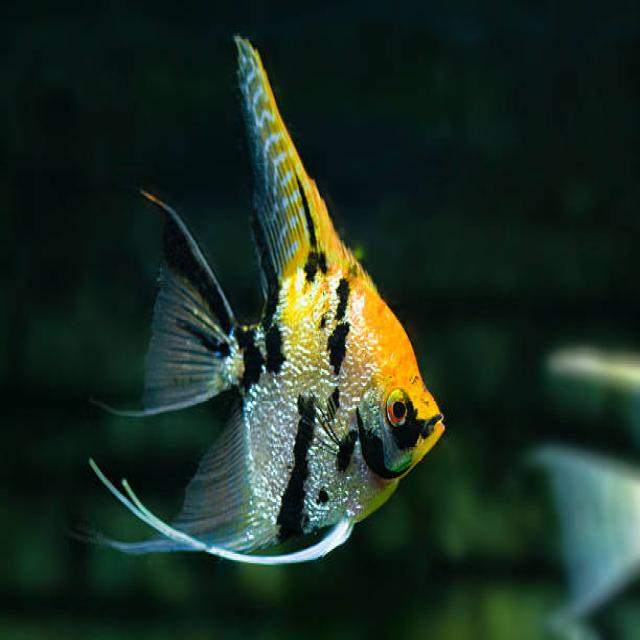AngelFish: (76, 38, 448, 582)
